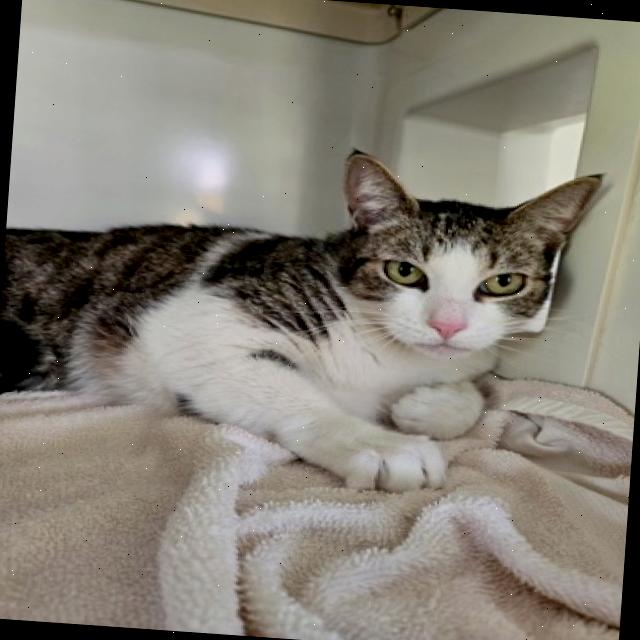domestic_short_hair_cat: (282, 131, 620, 387)
